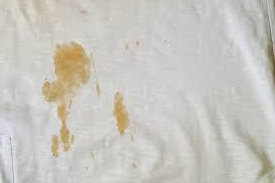coffee: (50, 41, 90, 84), (40, 83, 77, 108), (113, 93, 132, 136), (58, 107, 71, 153), (49, 136, 60, 160)
